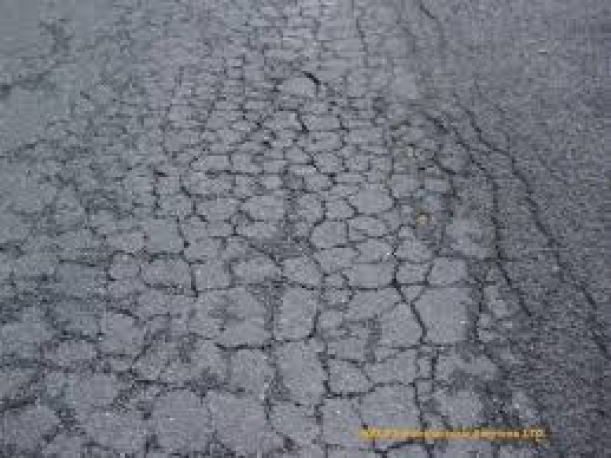Retak Buaya: (10, 12, 568, 458)
